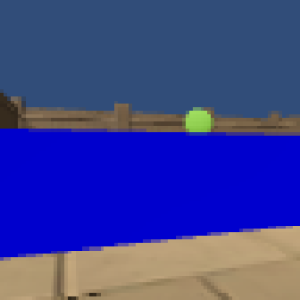goodGoal: (182, 105, 215, 132)
platform: (1, 131, 298, 256)
